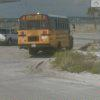Bus: (13, 7, 72, 57)
